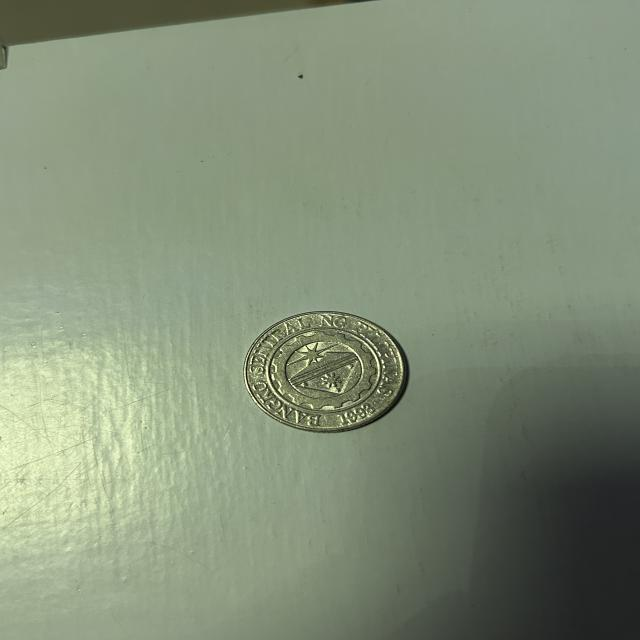1_Old_Back: (259, 325, 386, 417)
